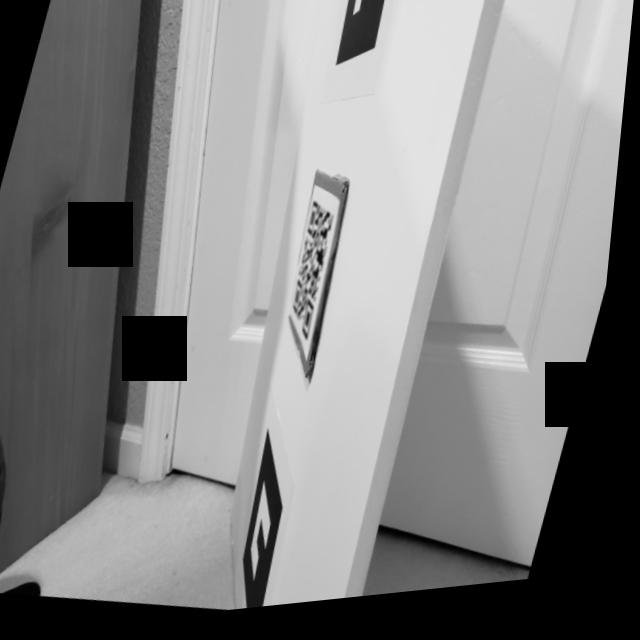QR_CODE: (274, 197, 371, 365)
